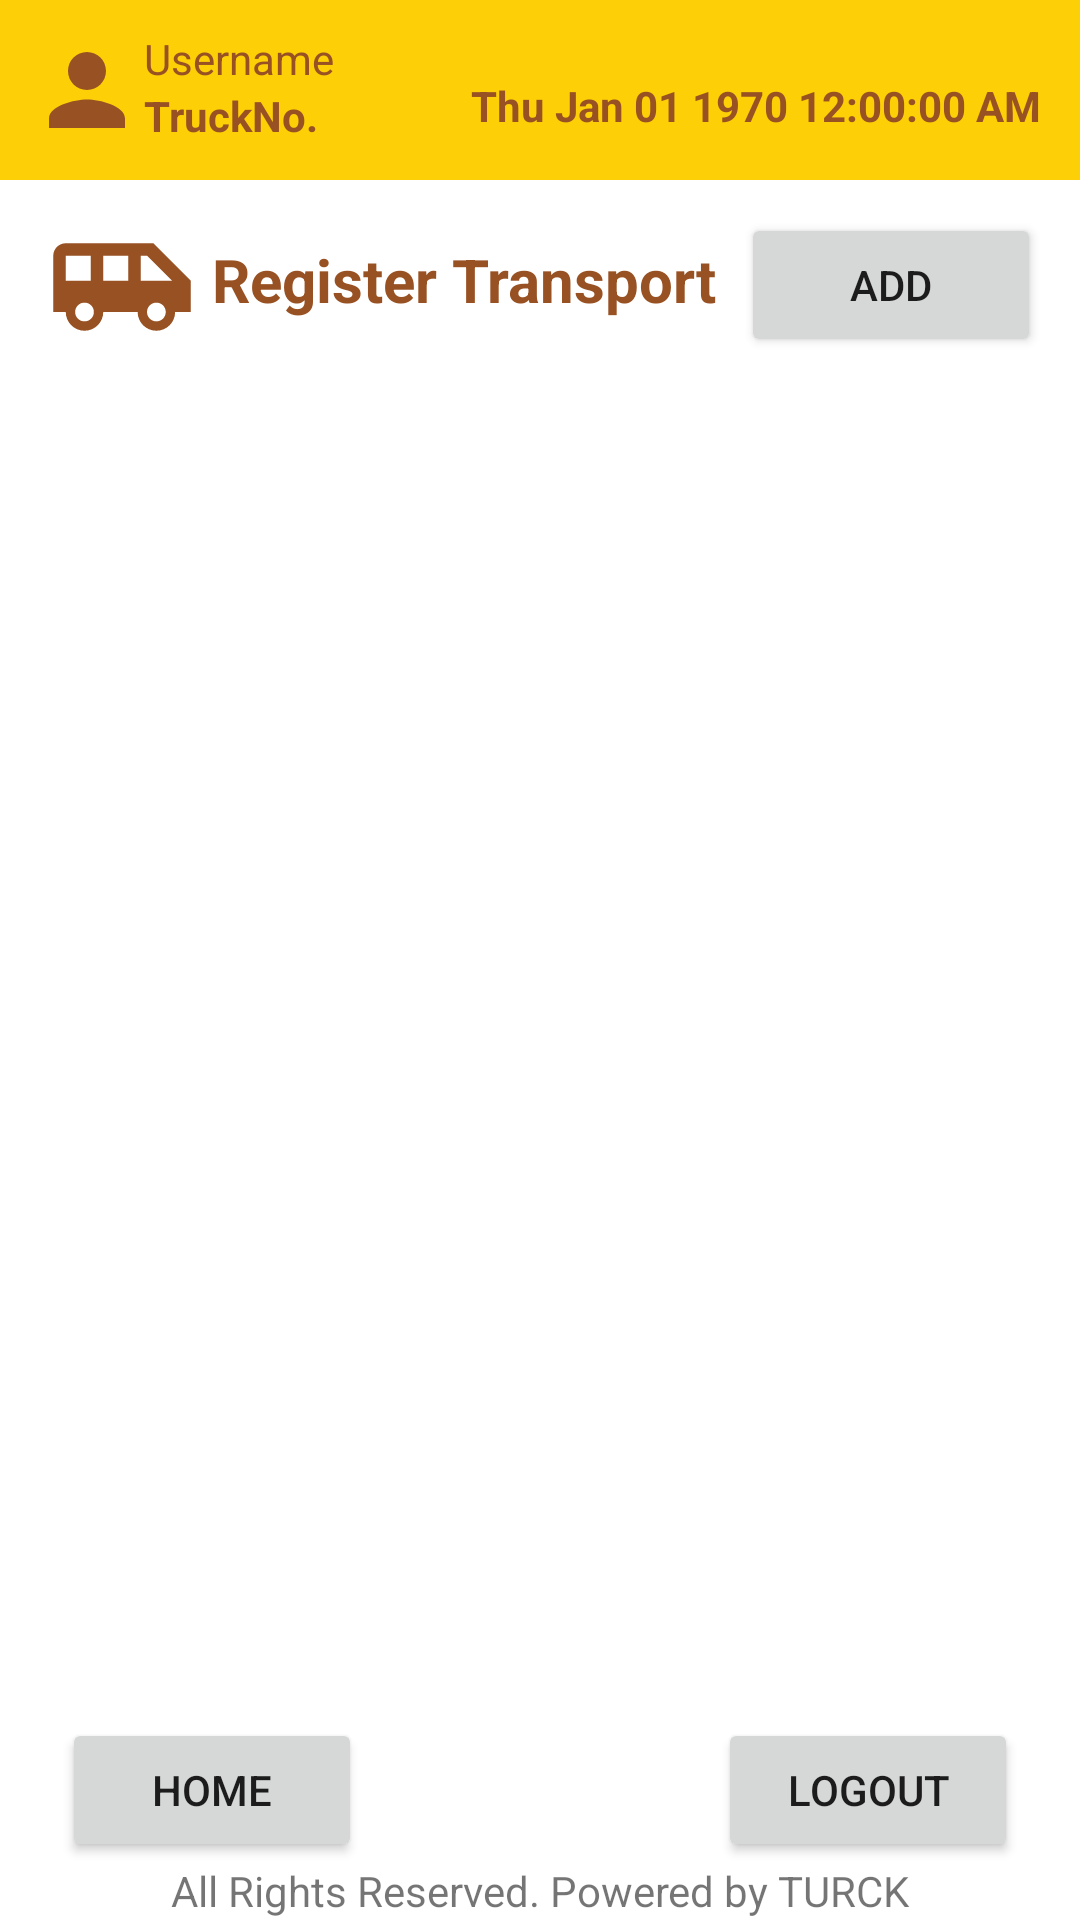

Locate icon controls on the screen. Image size 1080×1920, boxes as (x1, y1, x2, y2).
person: (49, 52, 125, 128)
